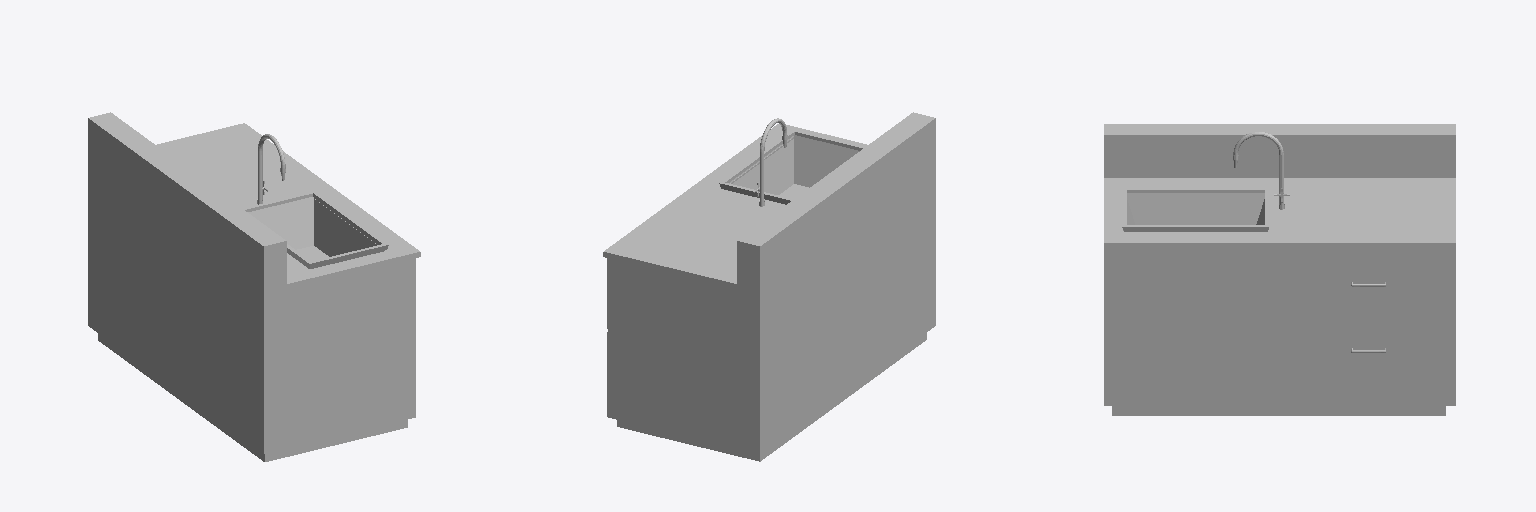
The model's file is waschbecken.obj.
3 views of the same model, side by side, from view 1: azimuth 30°, elevation 25°; view 2: azimuth 150°, elevation 25°; view 3: azimuth 270°, elevation 25° (orthographic).
Visible parts, largest first — view 1: Cube, Cube.001, Cube.002, Torus.001; view 2: Cube, Cube.001, Cube.002, Torus.001; view 3: Cube, Cube.001, Cube.002, Torus.001.
Boxes of the visible parts, <box> form: Cube: <box>88,167,415,461</box>; Cube.001: <box>88,112,420,294</box>; Cube.002: <box>242,191,388,268</box>; Torus.001: <box>257,134,285,204</box>; Cube: <box>607,167,935,461</box>; Cube.001: <box>603,112,935,294</box>; Cube.002: <box>719,129,864,204</box>; Torus.001: <box>759,118,787,206</box>; Cube: <box>1104,230,1455,415</box>; Cube.001: <box>1104,124,1455,248</box>; Cube.002: <box>1122,188,1269,231</box>; Torus.001: <box>1233,132,1284,209</box>.
Bounding box in the file's own units: 1.58 × 2.39 × 3.